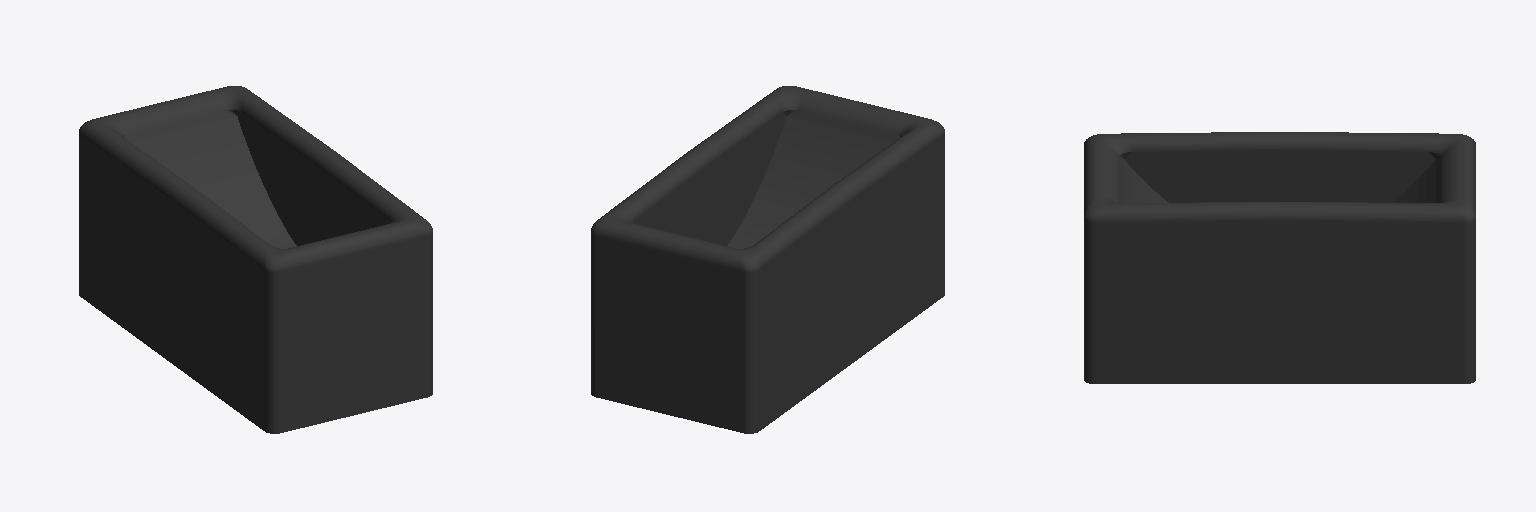
Rendered from Bathtub.obj.
3 renders of one model, left to right at view 1: azimuth 30°, elevation 25°; view 2: azimuth 150°, elevation 25°; view 3: azimuth 270°, elevation 25°, orthographic.
Parts seen in each view (by area): view 1: Cube; view 2: Cube; view 3: Cube.
Part boxes in pixels (left/top/right/bottom): Cube: left=79, top=86, right=432, bottom=433; Cube: left=591, top=86, right=944, bottom=433; Cube: left=1084, top=132, right=1475, bottom=383.
Bounding box in the file's own units: 2 × 2 × 4.06.